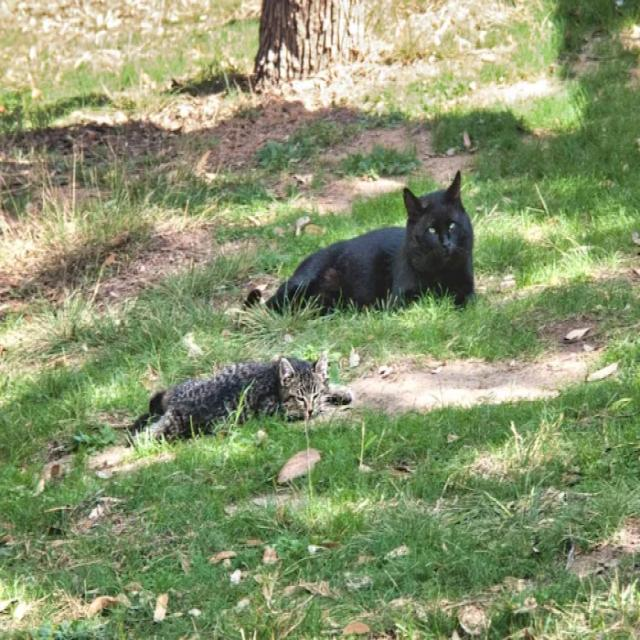cat: (266, 173, 474, 311), (130, 351, 352, 439)
